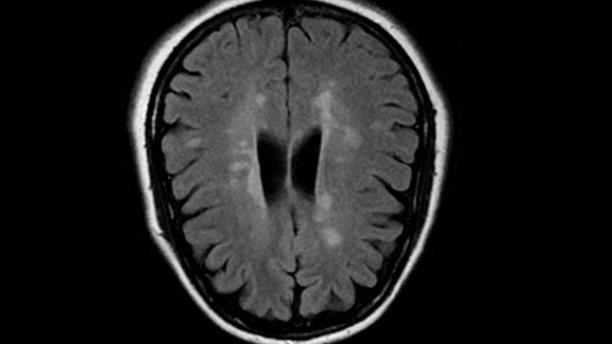Normal_Brain: (1, 1, 612, 344)
